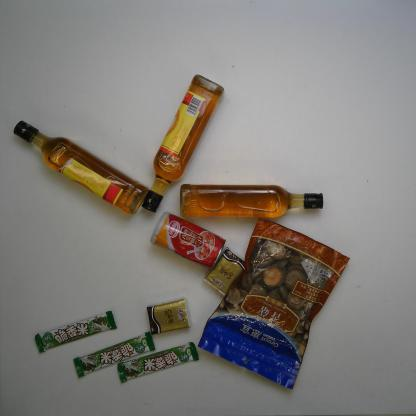Canned Food: (149, 211, 227, 272)
Chocolate: (73, 331, 157, 378), (34, 310, 118, 354), (116, 341, 200, 384)
Dried Food: (196, 216, 352, 392)
Seasoner: (11, 120, 150, 216), (139, 73, 227, 213), (178, 183, 326, 221)
Tissue: (203, 246, 246, 297), (146, 298, 191, 336)
